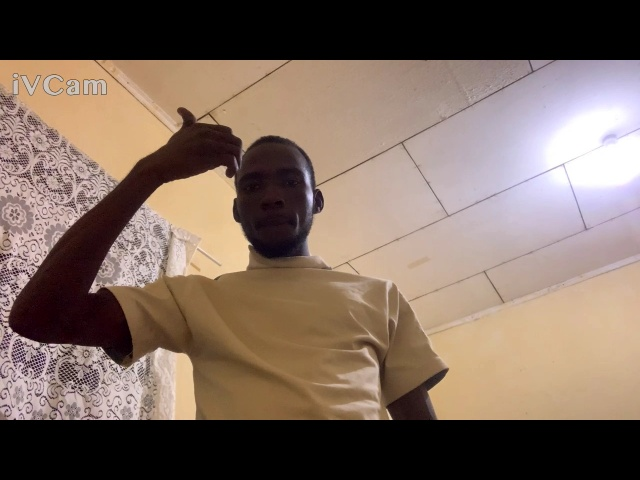je ne sais pas: (151, 95, 261, 184)
